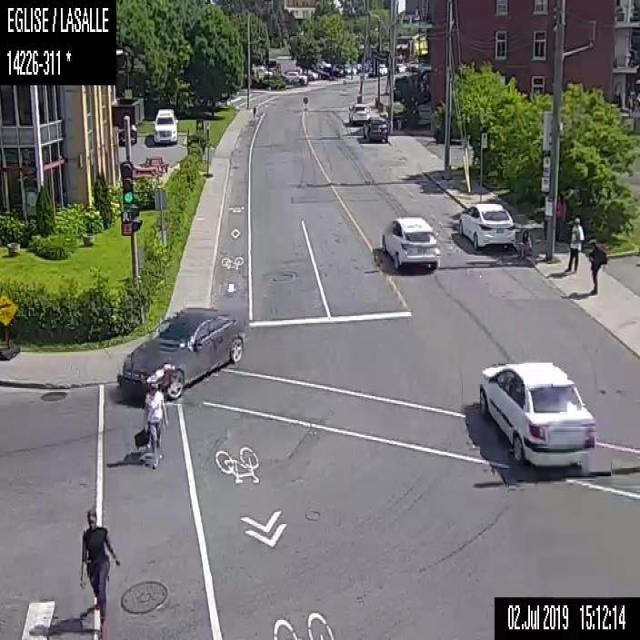pedestrian: (78, 508, 121, 635), (142, 380, 169, 469), (585, 237, 607, 296), (562, 216, 584, 273), (556, 192, 566, 246), (516, 228, 531, 261)
vehicle: (115, 303, 247, 401), (478, 359, 596, 468), (379, 213, 440, 271), (456, 200, 516, 249), (152, 108, 178, 144), (361, 111, 388, 142), (347, 101, 370, 124), (117, 120, 137, 144), (282, 70, 306, 86), (255, 64, 272, 78), (300, 67, 318, 80), (378, 64, 387, 74)
